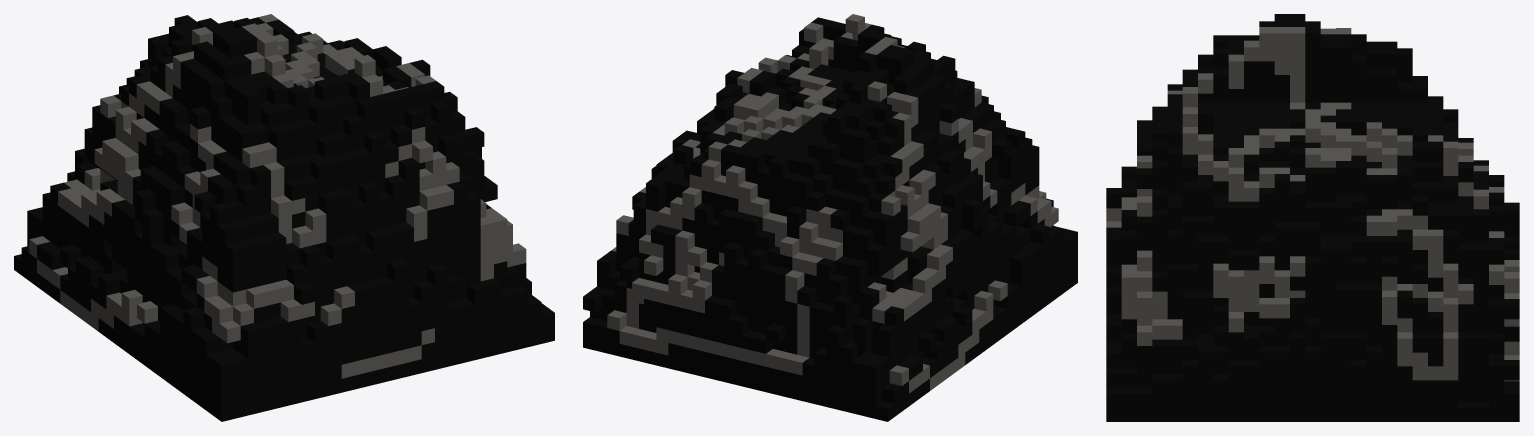
Rendered from coal_pile.obj.
3 renders of one model, left to right at view 1: azimuth 30°, elevation 25°; view 2: azimuth 150°, elevation 25°; view 3: azimuth 270°, elevation 25°, orthographic. The views are drawn at different scales.
Size of the model in its own units: 2.5 by 2.1 by 2.7.
1 material, 1 textured.
